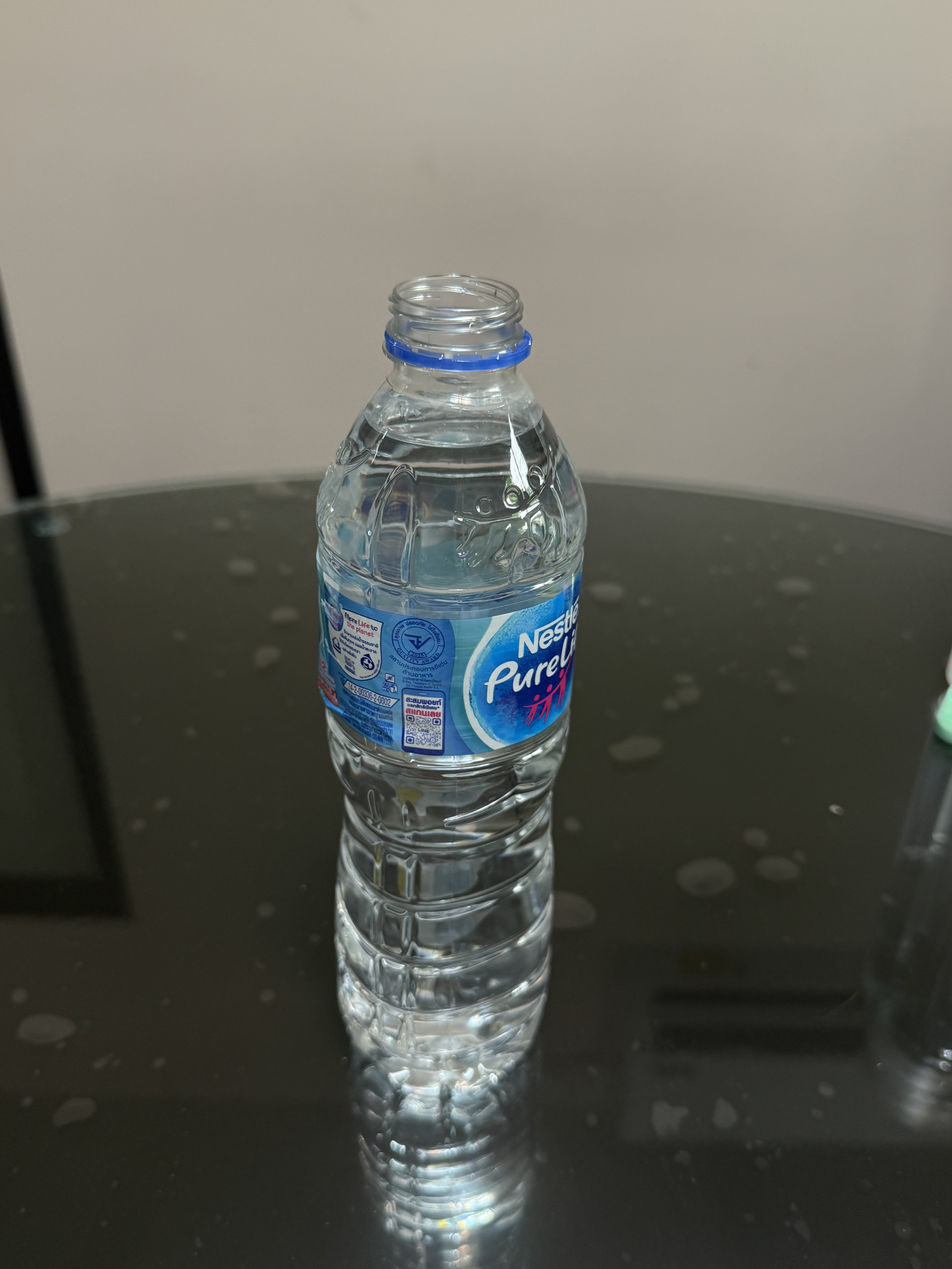no_cap: (382, 270, 533, 374)
